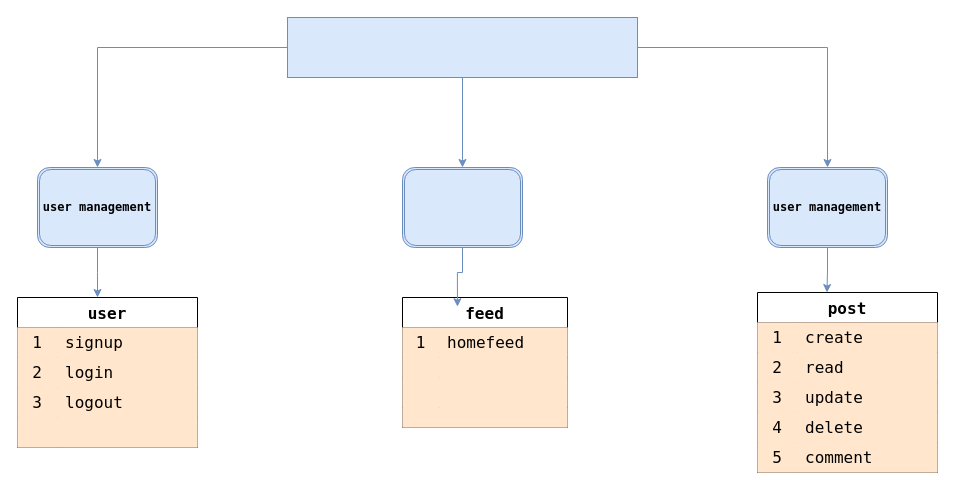
Image size: 955x490. Some labels were removed from this diagram. The shapes that lost their labels are listed below. From the top down, each one's centre as x and y in pixels, then its label:
pixel 462 47: Fumbakaa blog functional requirements
pixel 462 207: timeline feed
